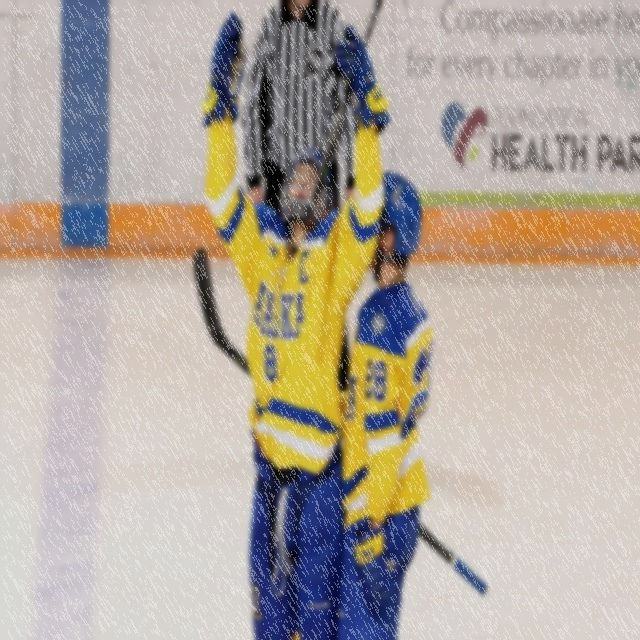pessoa: (204, 8, 392, 640), (240, 19, 373, 511), (326, 162, 437, 639)
